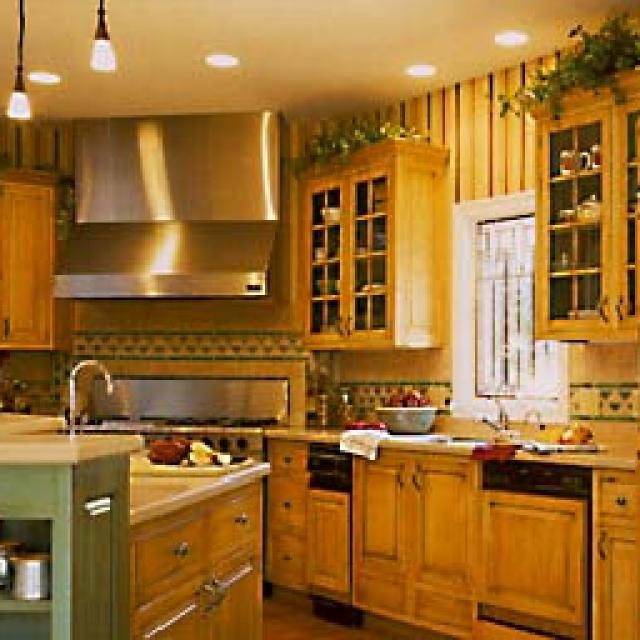2001: (472, 208, 558, 395)
bottle crop: (312, 362, 328, 422)
bowl -X: (312, 275, 335, 290), (318, 202, 335, 212)
cabinet door: (295, 132, 440, 345), (530, 78, 628, 330), (0, 165, 55, 342), (262, 438, 308, 610), (592, 468, 635, 635)
cabinets: (128, 468, 260, 635)
ceiling lamps: (5, 0, 22, 118), (90, 0, 115, 70), (195, 42, 232, 65), (22, 62, 55, 82), (490, 25, 525, 42), (400, 58, 432, 75)
counter bottom: (125, 440, 262, 522), (0, 410, 135, 460), (480, 435, 635, 462)
cup and saucer: (2, 550, 45, 595), (312, 242, 322, 252)
cutting board with vegetables: (130, 452, 248, 470), (515, 440, 602, 450)
dish towels: (332, 425, 380, 455)
dishwasher: (472, 458, 588, 638), (298, 440, 348, 612)
faucet handle: (58, 358, 108, 418)
fruit plate: (375, 382, 432, 428)
hood: (52, 108, 282, 295)
jar -X: (335, 382, 352, 420)
lower cabinets: (345, 442, 472, 628)
mug: (555, 150, 588, 170)
plant -x: (502, 25, 638, 98), (292, 115, 415, 150)
pot hanger: (560, 190, 598, 215)
ranges: (225, 408, 268, 425)
sink basin: (368, 430, 522, 442)
sink occluded: (468, 398, 508, 432)
stove burner: (75, 370, 285, 585), (82, 372, 290, 452)
